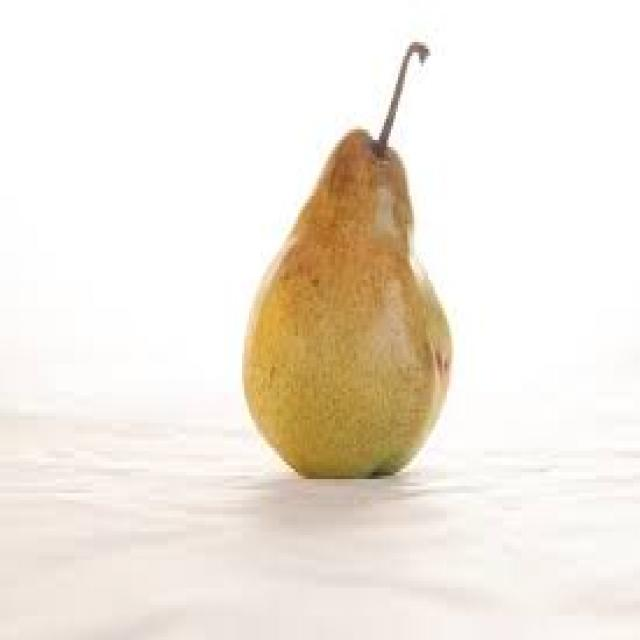organic waste: (240, 42, 449, 479)
